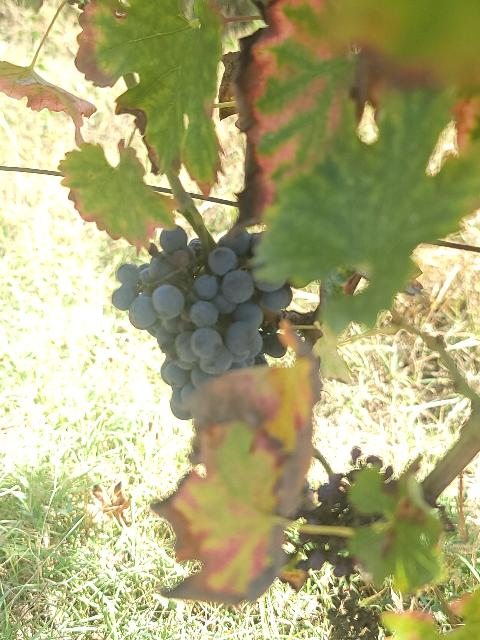grapes: (112, 226, 292, 419)
